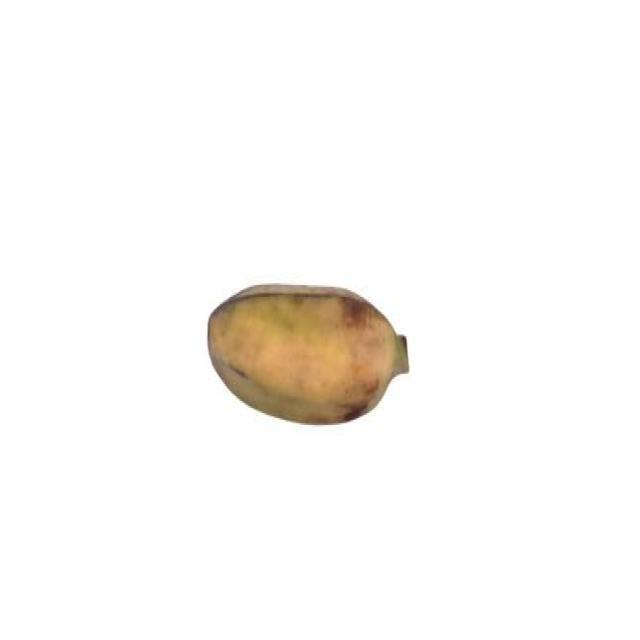Banana: (202, 278, 412, 430)
